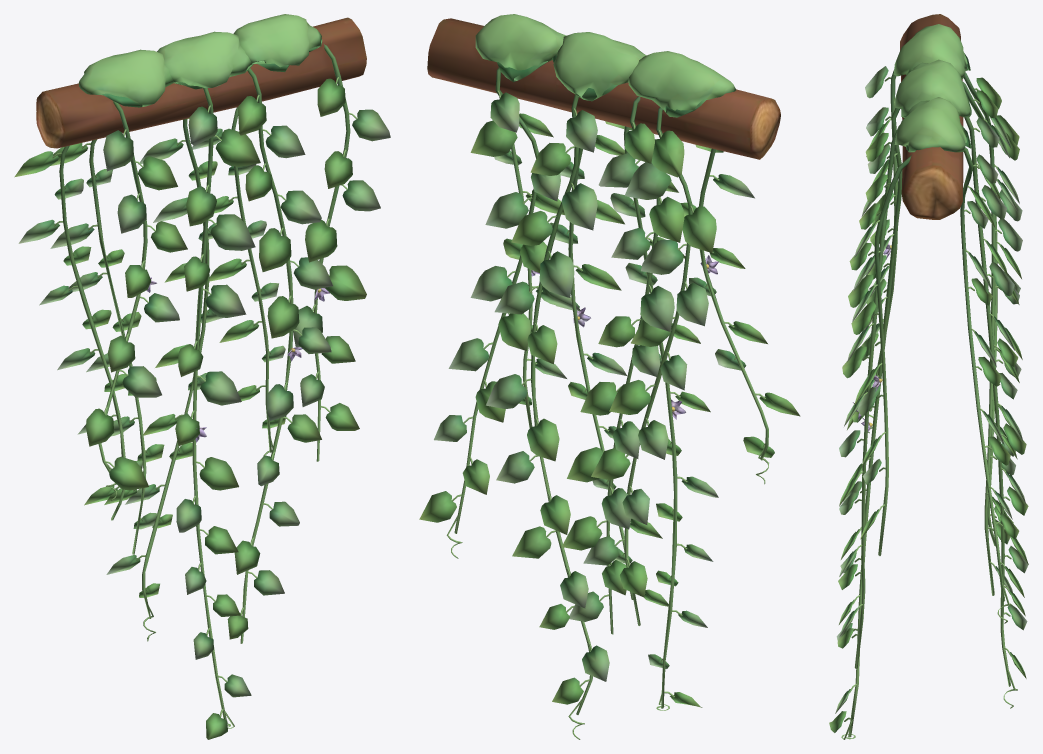
File: vine.glb
The picture shows the model from 3 angles, left to right: view 1: azimuth 30°, elevation 25°; view 2: azimuth 150°, elevation 25°; view 3: azimuth 270°, elevation 25°; orthographic projection. The views are drawn at different scales.
Parts seen in each view (by area): view 1: hanging-vine_body; view 2: hanging-vine_body; view 3: hanging-vine_body.
Part boxes in pixels (x1,y1,x2,y2): hanging-vine_body: (14, 14, 390, 739); hanging-vine_body: (419, 14, 800, 739); hanging-vine_body: (829, 14, 1028, 739).
Bounding box in the file's own units: 0.5008 × 1.03 × 0.277.
Materials: 1 (1 with a texture image).
